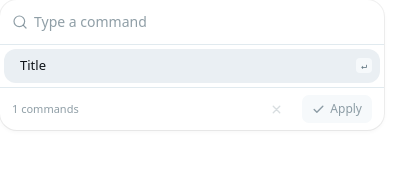
Test: CommandPalette text slot › shows a hint to type a value before anything is typed
Click the text "Title" at (33, 65), box [20, 56, 46, 74]
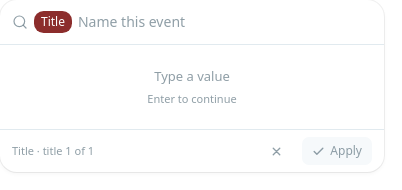
Check: the text "Type a value" is shown, box [154, 67, 230, 85]
